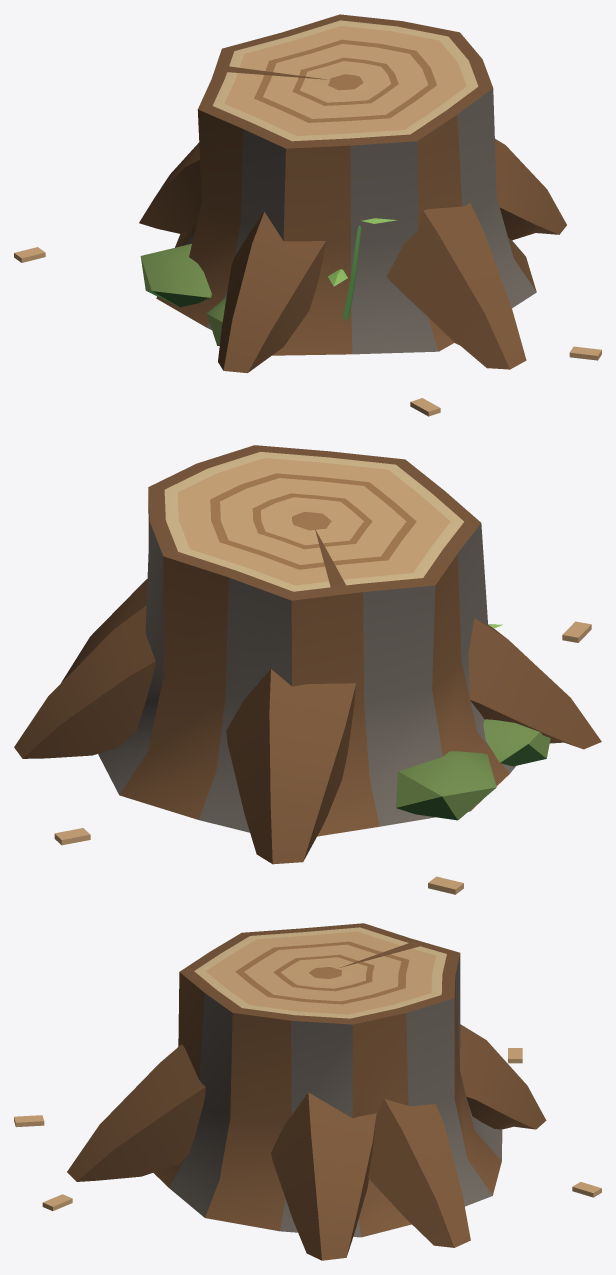
File: SC_Nat_Tree_Stump.gltf
The picture shows the model from 3 angles, top to bottom: view 1: azimuth 30°, elevation 25°; view 2: azimuth 150°, elevation 25°; view 3: azimuth 270°, elevation 25°; orthographic projection. The views are drawn at different scales.
Visible parts, largest first — view 1: SC_Nat_Tree_Stump; view 2: SC_Nat_Tree_Stump; view 3: SC_Nat_Tree_Stump.
Part boxes in pixels (x1,y1,x2,y2): SC_Nat_Tree_Stump: [14, 14, 601, 416]; SC_Nat_Tree_Stump: [14, 445, 601, 894]; SC_Nat_Tree_Stump: [14, 923, 601, 1260].
Size of the model in its own units: 1.02 by 0.4404 by 1.21.
Materials: 1 (1 with a texture image).
